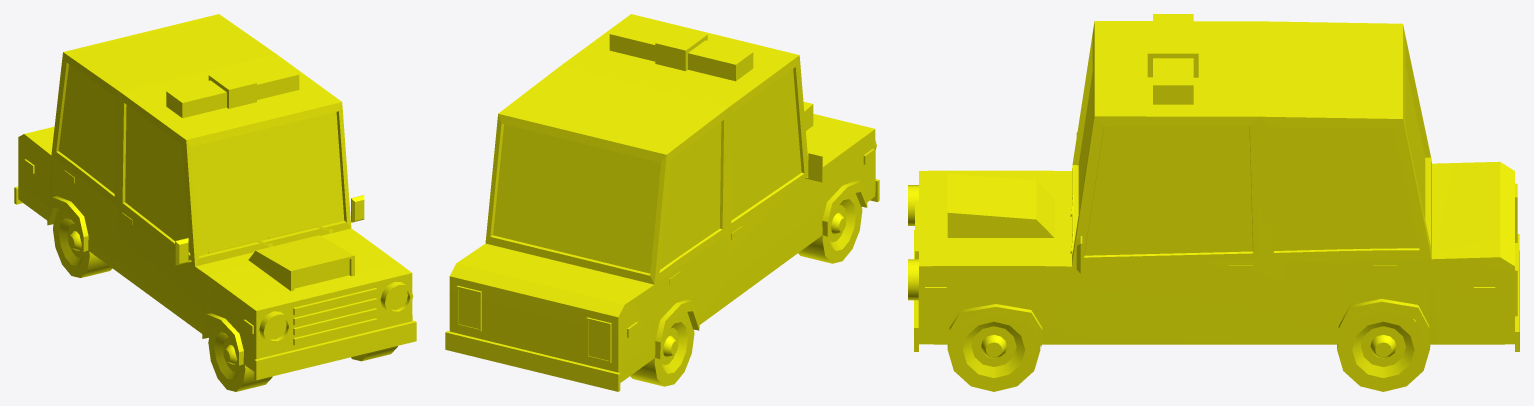
File: car_police.glb
3 views of the same model, side by side, from view 1: azimuth 30°, elevation 25°; view 2: azimuth 150°, elevation 25°; view 3: azimuth 270°, elevation 25° (orthographic). The views are drawn at different scales.
Visible parts, largest first — view 1: Hood, Glass, Wheel_back_right, Wheel_front_right; view 2: Hood, Glass, Wheel_back_right, Wheel_front_right; view 3: Hood, Glass, Wheel_back_left, Wheel_front_left.
Part boxes in pixels (box(x1,y1,x2,y2)): Hood: box(14, 14, 416, 380); Glass: box(58, 64, 344, 255); Wheel_back_right: box(53, 209, 112, 277); Wheel_front_right: box(208, 325, 272, 391); Hood: box(445, 14, 879, 391); Glass: box(493, 69, 801, 273); Wheel_back_right: box(630, 312, 694, 386); Wheel_front_right: box(798, 193, 862, 263); Hood: box(908, 14, 1519, 351); Glass: box(1078, 66, 1425, 255); Wheel_back_left: box(1337, 311, 1429, 391); Wheel_front_left: box(947, 316, 1040, 391).
Bounding box in the file's own units: 1.86 × 2.25 × 4.17.
2 materials, 2 textured.
